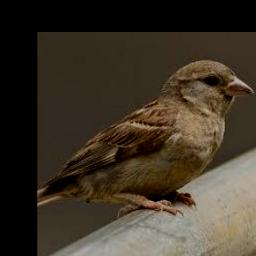Sparrow: (37, 59, 254, 216)
